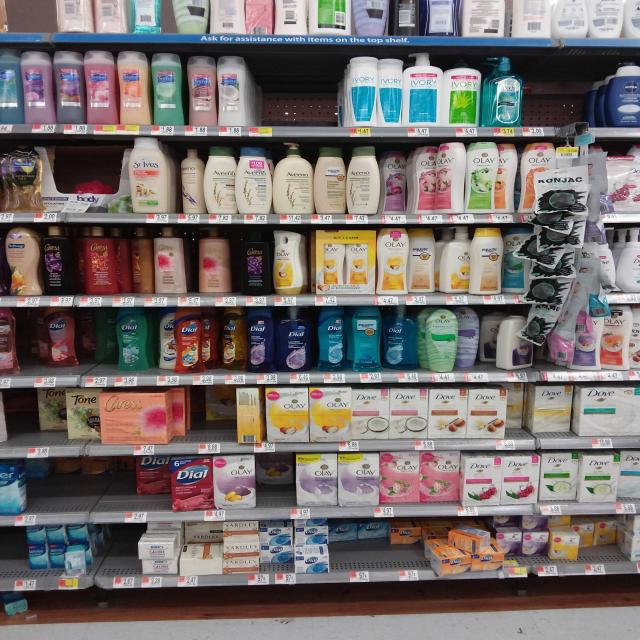void: (294, 56, 340, 137), (256, 56, 291, 138), (556, 52, 581, 134), (111, 456, 140, 523), (529, 54, 552, 137), (15, 310, 40, 386), (586, 52, 606, 139), (90, 525, 115, 588), (10, 392, 34, 456), (113, 526, 135, 590), (2, 530, 22, 591)
